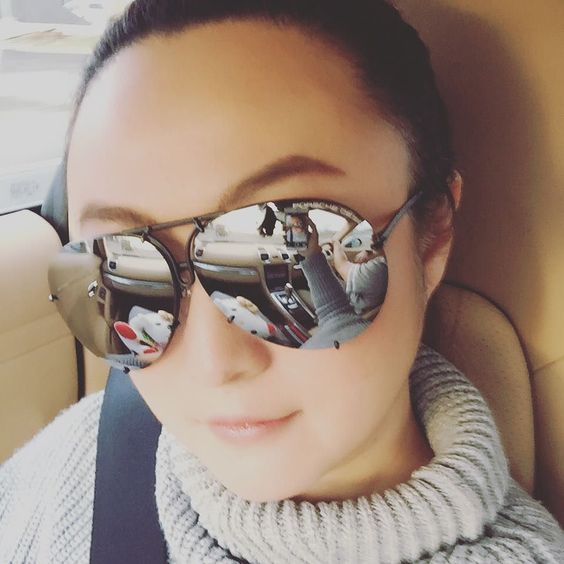sunglasses: (39, 205, 378, 339), (39, 252, 378, 339)
